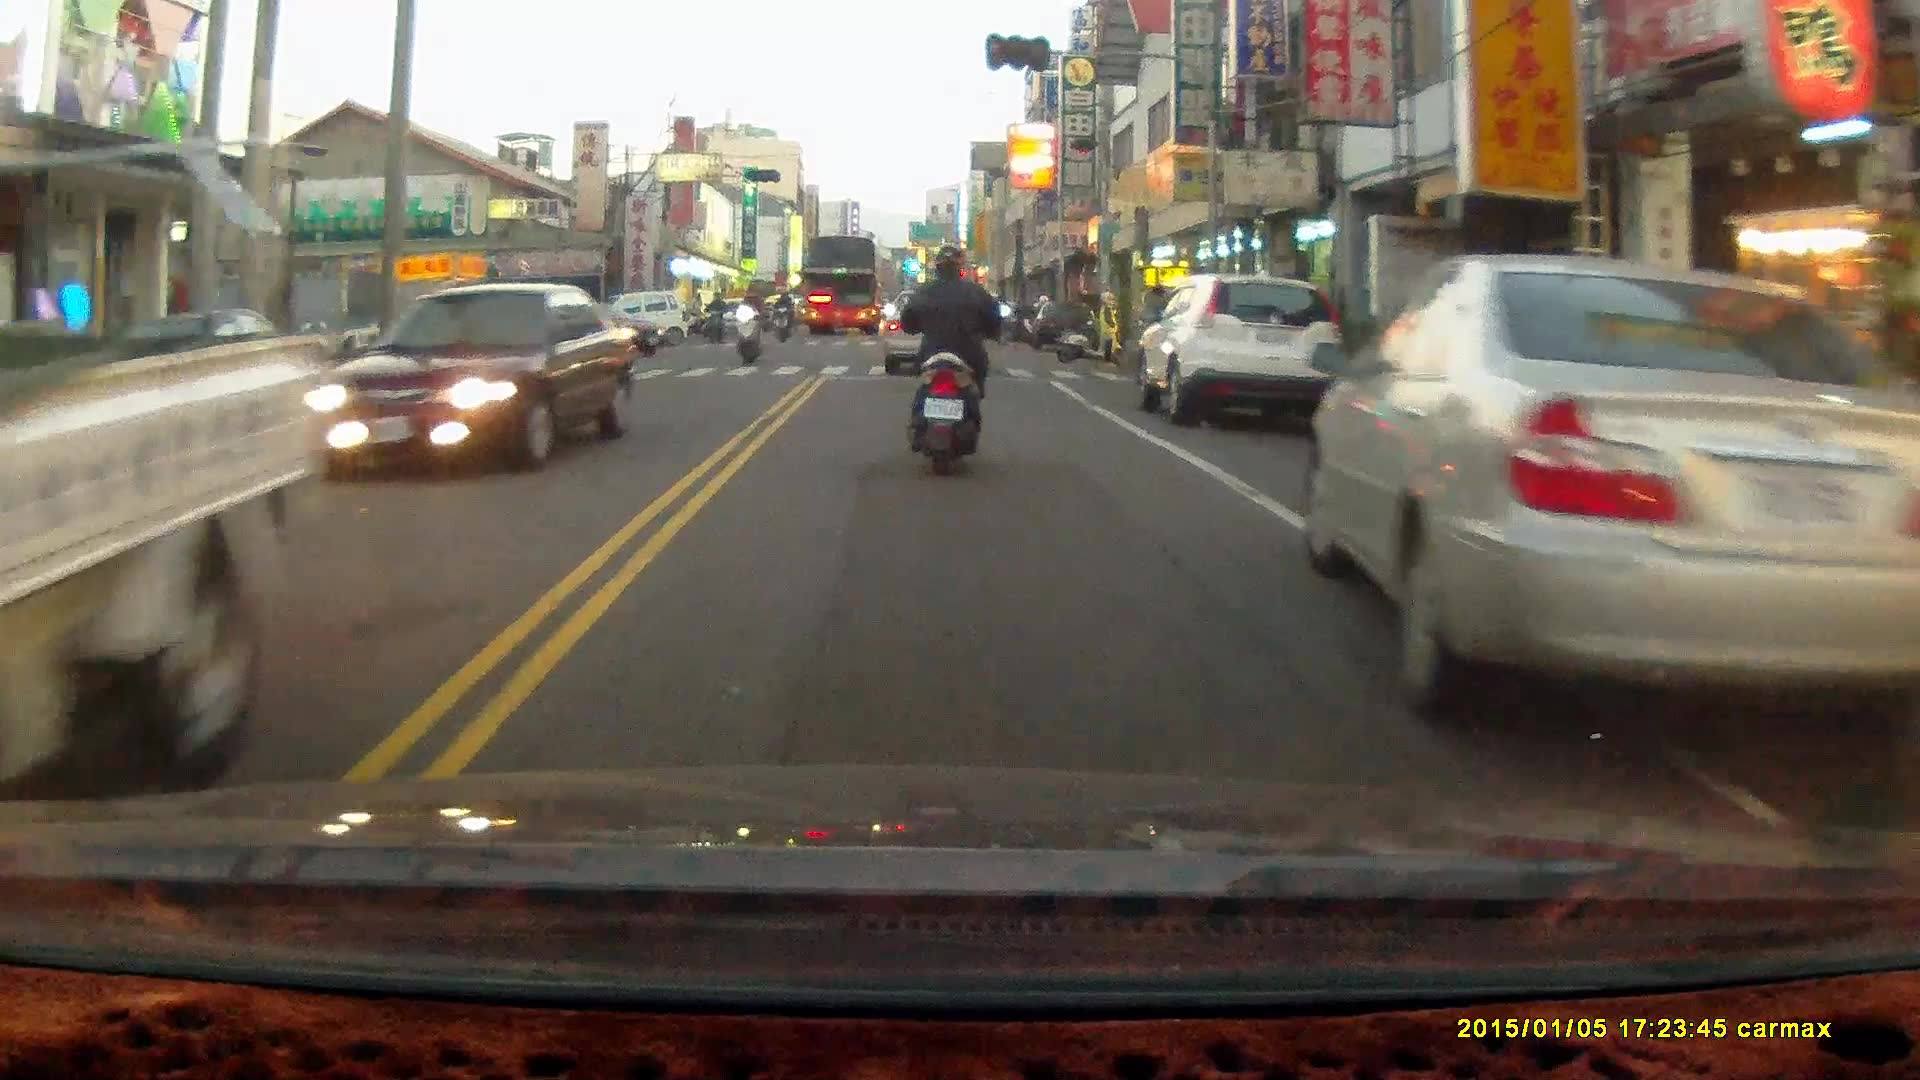pedestrian: (1094, 289, 1120, 369)
rider: (896, 242, 1013, 477), (732, 285, 764, 366), (772, 288, 793, 348), (702, 289, 724, 345)
vehicle: (1308, 254, 1920, 723), (290, 281, 646, 481), (1139, 275, 1334, 426), (800, 237, 885, 340), (881, 295, 983, 379)
